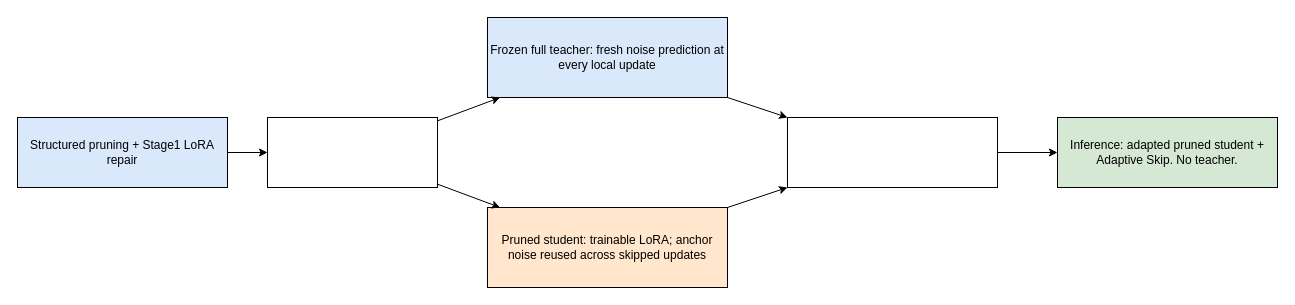
This 1295x305 diagram has some shape labels left out. Here are the shapes that lost their labels. From the top down, the box of each, then its label:
(266, 116, 438, 188): Same prompt + anchor latent
(786, 116, 998, 188): Endpoint latent MSE; update student LoRA only
